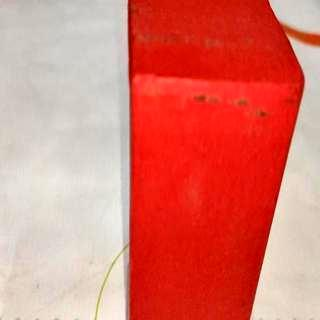redbox: (128, 0, 304, 320)
